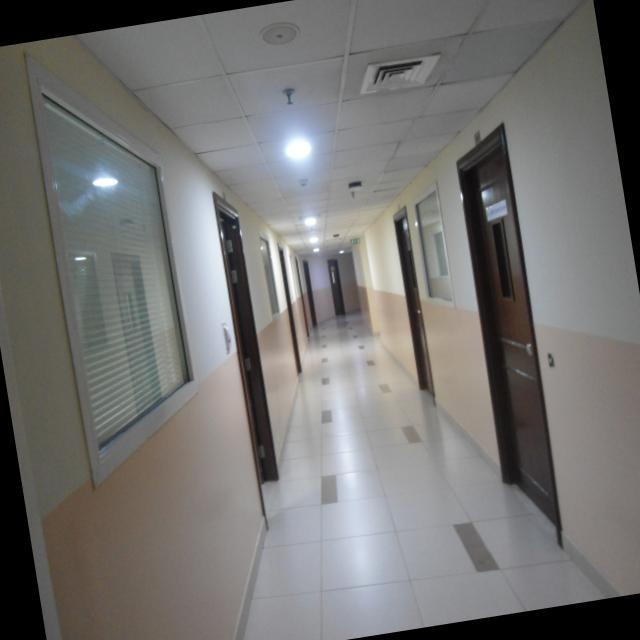door: (448, 122, 560, 523), (205, 181, 288, 520), (386, 206, 436, 403)
path: (240, 313, 616, 640)
window: (19, 29, 206, 474)
